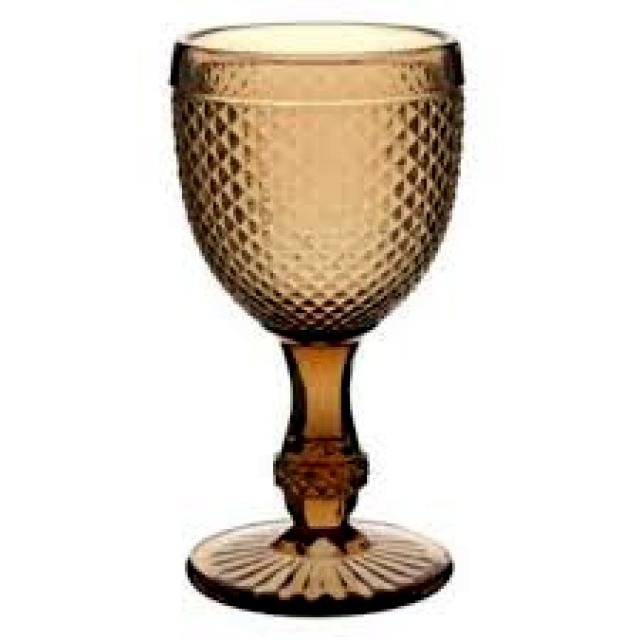Glass: (164, 16, 471, 616)
